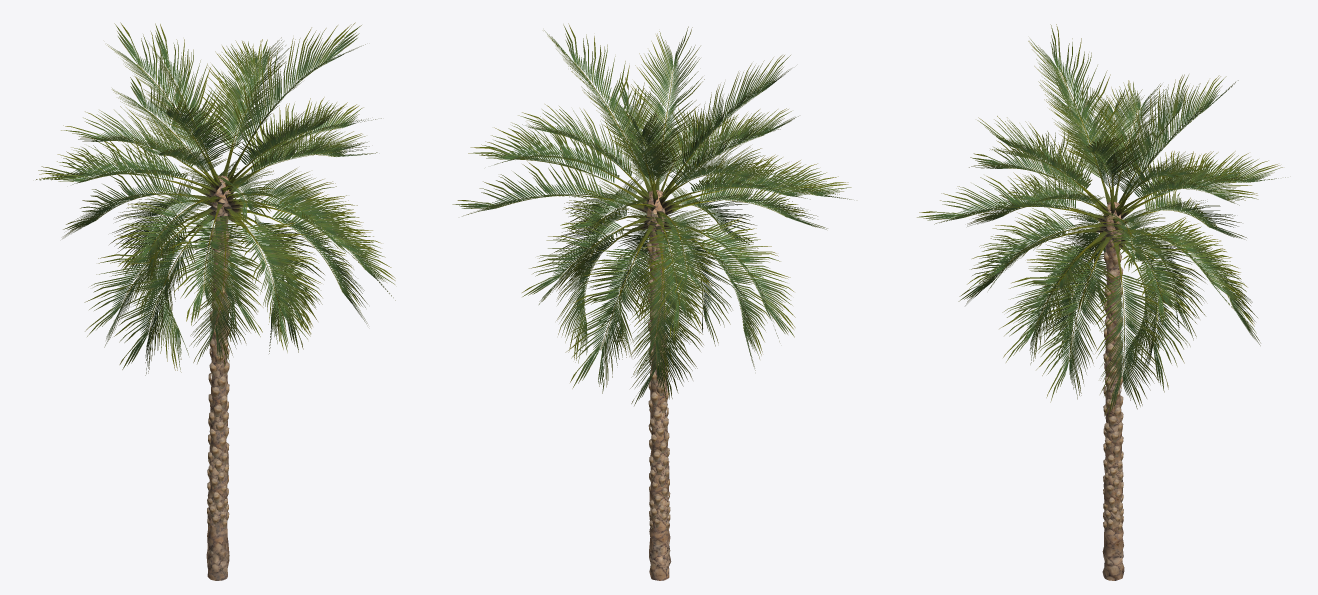
The model's file is palmera_datilera.glb.
3 renders of one model, left to right at view 1: azimuth 30°, elevation 25°; view 2: azimuth 150°, elevation 25°; view 3: azimuth 270°, elevation 25°, orthographic. The views are drawn at different scales.
Visible parts, largest first — view 1: Tree_1_Tree_1Mat_0, Tree_0_Tree_0Mat_0, Tree_3_Tree_3Mat_0, Tree_2_Tree_2Mat_0; view 2: Tree_1_Tree_1Mat_0, Tree_0_Tree_0Mat_0, Tree_3_Tree_3Mat_0, Tree_2_Tree_2Mat_0; view 3: Tree_1_Tree_1Mat_0, Tree_0_Tree_0Mat_0, Tree_2_Tree_2Mat_0, Tree_3_Tree_3Mat_0.
Part boxes in pixels (<box>): Tree_1_Tree_1Mat_0: <box>36,22,395,375</box>; Tree_0_Tree_0Mat_0: <box>206,175,230,580</box>; Tree_3_Tree_3Mat_0: <box>155,129,293,264</box>; Tree_2_Tree_2Mat_0: <box>207,228,230,528</box>; Tree_1_Tree_1Mat_0: <box>452,23,851,405</box>; Tree_0_Tree_0Mat_0: <box>647,190,671,580</box>; Tree_3_Tree_3Mat_0: <box>583,141,723,287</box>; Tree_2_Tree_2Mat_0: <box>647,241,670,530</box>; Tree_1_Tree_1Mat_0: <box>917,24,1285,417</box>; Tree_0_Tree_0Mat_0: <box>1102,202,1124,580</box>; Tree_2_Tree_2Mat_0: <box>1103,252,1123,531</box>; Tree_3_Tree_3Mat_0: <box>1049,149,1167,292</box>.
Size of the model in its own units: 5.95 by 8 by 5.68.
Materials: 4 (4 with a texture image).
